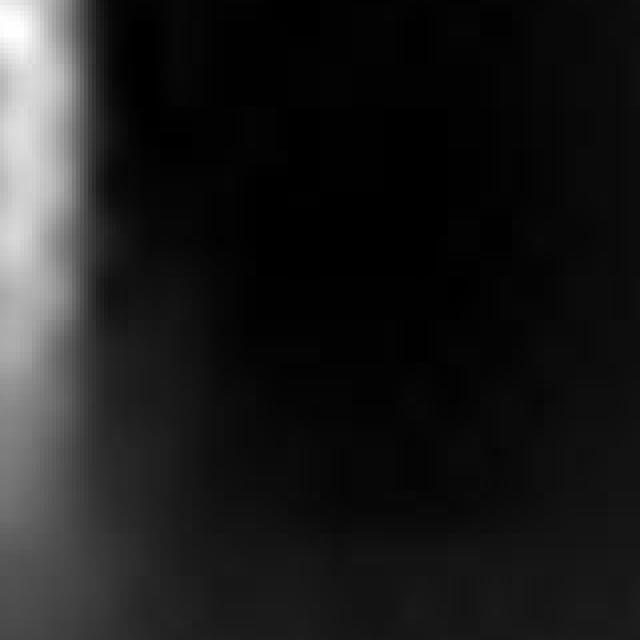person: (1, 1, 93, 476)
